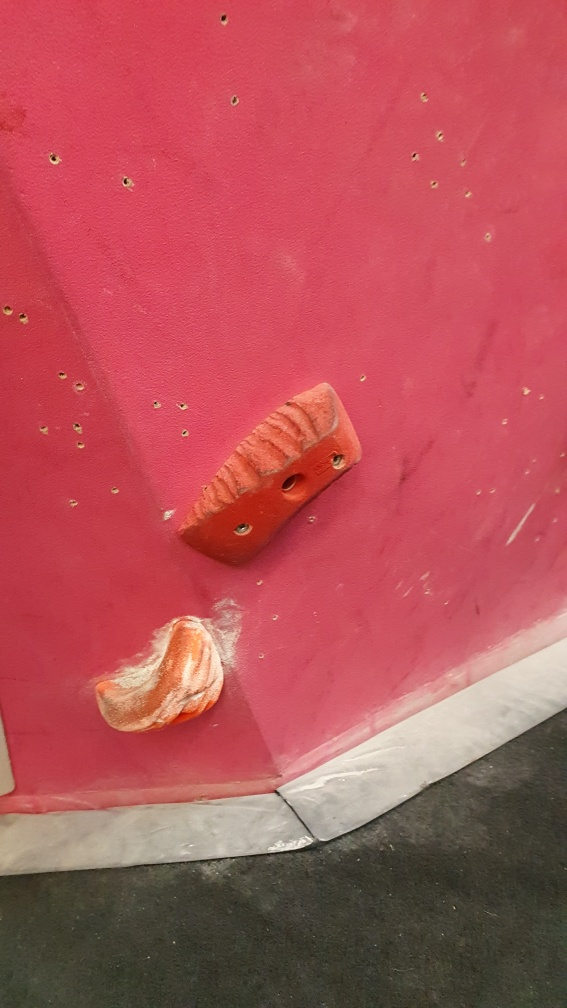Crimp: (175, 373, 364, 571)
Jug: (95, 614, 226, 742)
